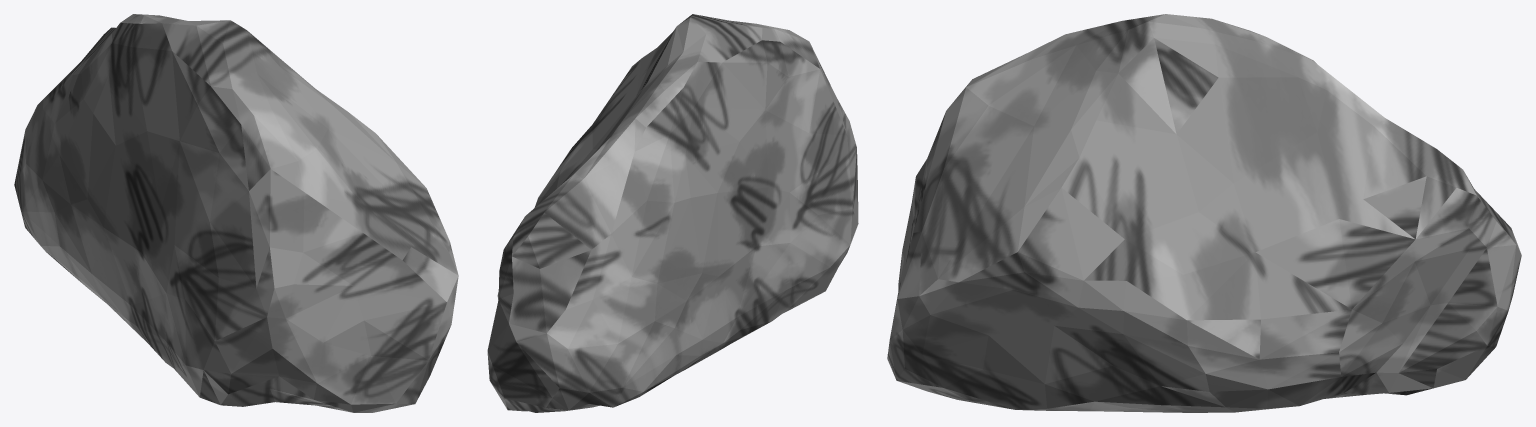
File: rock2.FBX
The picture shows the model from 3 angles, left to right: view 1: azimuth 30°, elevation 25°; view 2: azimuth 150°, elevation 25°; view 3: azimuth 270°, elevation 25°; orthographic projection. The views are drawn at different scales.
Parts seen in each view (by area): view 1: rock4; view 2: rock4; view 3: rock4.
Part boxes in pixels (box(x1,y1,x2,y2)): rock4: box(14, 14, 458, 412); rock4: box(487, 14, 858, 412); rock4: box(887, 14, 1521, 412).
Bounding box in the file's own units: 1.86 × 2.4 × 3.92.
1 material, 1 textured.
